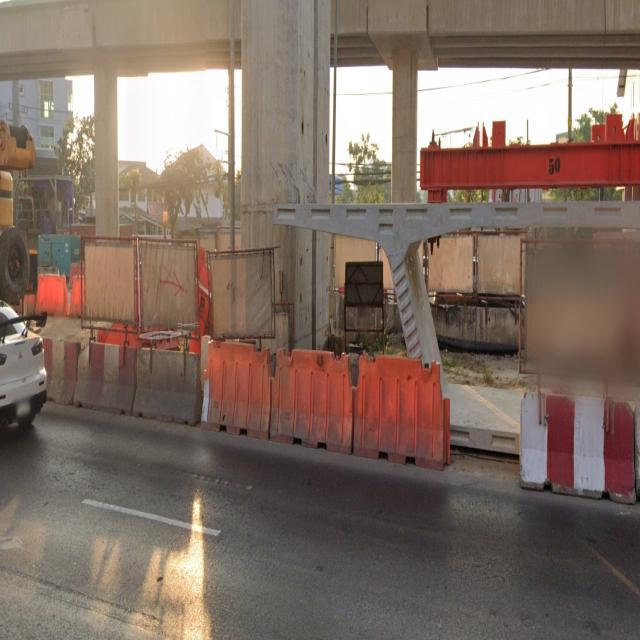fallen_object: (499, 370, 640, 544), (23, 323, 209, 434), (346, 337, 472, 474), (190, 317, 278, 453), (260, 339, 358, 449)
